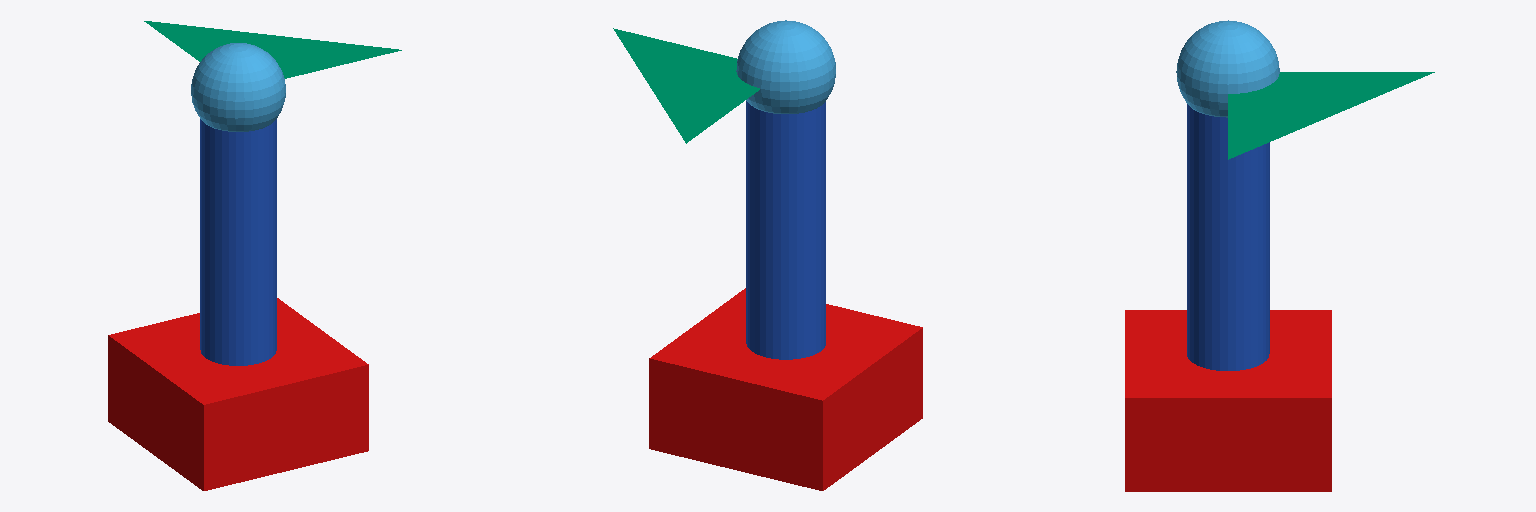
The robot description file, URDF, robot "visual_arm":
<?xml version="1.0"?>
<!-- Exercises RENDER-ONLY <visual> parsing: box with an INLINE rgba material,
     cylinder referencing the NAMED top-level material, bare sphere (no material),
     a relative-path mesh with scale (visual_hand.stl, exists), a
     package://demo_pkg mesh (resolves via the ancestor search to
     ../demo_pkg/meshes/part.stl), and an UNRESOLVABLE mesh (ghost_missing.stl)
     that must be KEPT with path=None without failing compile. -->
<robot name="visual_arm">
  <material name="steel">
    <color rgba="0.2 0.4 0.8 1.0"/>
  </material>

  <link name="base">
    <visual>
      <origin xyz="0 0 0.05"/>
      <geometry><box size="0.2 0.2 0.1"/></geometry>
      <material name="base_red">
        <color rgba="0.9 0.1 0.1 1.0"/>
      </material>
    </visual>
  </link>
  <link name="l1">
    <visual>
      <origin xyz="0 0 0.15"/>
      <geometry><cylinder radius="0.04" length="0.3"/></geometry>
      <material name="steel"/>
    </visual>
    <visual>
      <origin xyz="0 0 0.3"/>
      <geometry><sphere radius="0.05"/></geometry>
    </visual>
  </link>
  <link name="l2">
    <visual>
      <geometry><mesh filename="visual_hand.stl" scale="2 2 2"/></geometry>
    </visual>
    <visual>
      <geometry><mesh filename="package://demo_pkg/meshes/part.stl"/></geometry>
    </visual>
    <visual>
      <geometry><mesh filename="ghost_missing.stl"/></geometry>
    </visual>
  </link>

  <joint name="j1" type="revolute">
    <parent link="base"/><child link="l1"/>
    <origin xyz="0 0 0.1"/><axis xyz="0 0 1"/>
    <limit lower="-3.14" upper="3.14" effort="10" velocity="2"/>
  </joint>
  <joint name="j2" type="revolute">
    <parent link="l1"/><child link="l2"/>
    <origin xyz="0 0 0.3"/><axis xyz="0 1 0"/>
    <limit lower="-3.14" upper="3.14" effort="10" velocity="2"/>
  </joint>
</robot>

--- What the picture shows (computed from the rendered views, not written in the file) ---
The picture shows the robot from 3 angles, left to right: view 1: azimuth 30°, elevation 25°; view 2: azimuth 150°, elevation 25°; view 3: azimuth 270°, elevation 25°; orthographic projection.
Model visual_arm with 3 links and 2 joints (2 revolute), rooted at base, posed every joint at zero.
Visible links, largest first — view 1: base, l1, l2; view 2: base, l1, l2; view 3: base, l1, l2.
Link boxes in pixels (x1,y1,x2,y2): base: (108, 298, 368, 490); l1: (191, 43, 285, 365); l2: (144, 21, 401, 78); base: (649, 288, 922, 490); l1: (736, 20, 835, 359); l2: (613, 28, 759, 143); base: (1125, 310, 1331, 491); l1: (1176, 20, 1279, 370); l2: (1228, 72, 1434, 159).
Bounding box of the posed robot: 0.3 × 0.3 × 0.45 m (x, y, z).
2 mesh visuals loaded from 3 distinct referenced files (2 ASCII STL); not drawn: 1 (reference not matched to a file when rendering).
